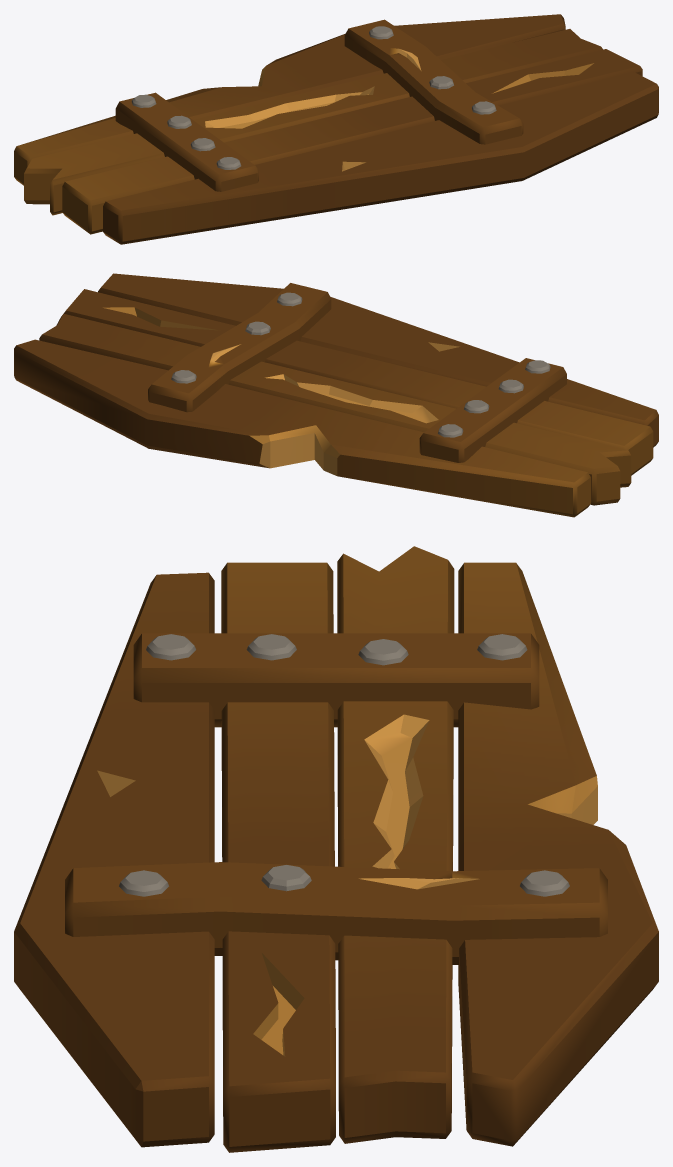
Rendered from Cofin_Lid_1_1.obj.
3 renders of one model, top to bottom at view 1: azimuth 30°, elevation 25°; view 2: azimuth 150°, elevation 25°; view 3: azimuth 270°, elevation 25°, orthographic. The views are drawn at different scales.
Parts seen in each view (by area): view 1: Cofin_Lid_1_1; view 2: Cofin_Lid_1_1; view 3: Cofin_Lid_1_1.
Boxes of the visible parts, bbox=[...] form: Cofin_Lid_1_1: bbox=[14, 14, 658, 244]; Cofin_Lid_1_1: bbox=[14, 273, 658, 517]; Cofin_Lid_1_1: bbox=[14, 546, 658, 1152].
Size of the model in its own units: 1.38 by 0.1265 by 0.6911.
